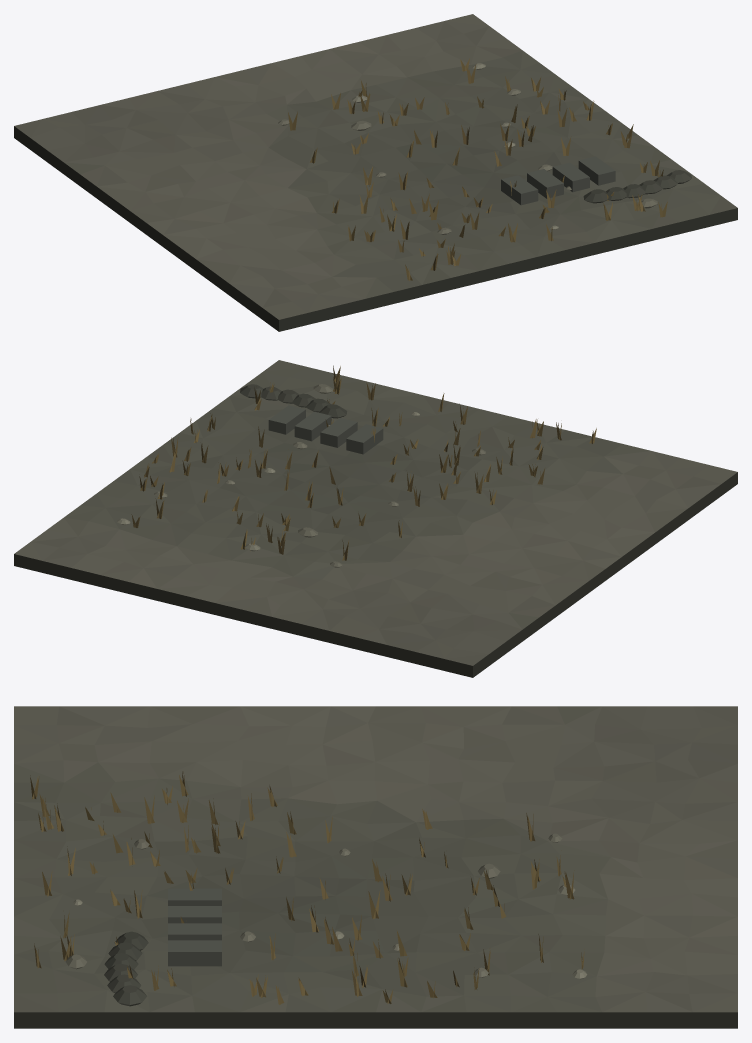
Rendered from CHUNK_oath_battlefield__burnt_field_hospital__11.glb.
3 views of the same model, one above another, from view 1: azimuth 30°, elevation 25°; view 2: azimuth 150°, elevation 25°; view 3: azimuth 270°, elevation 25° (orthographic). The views are drawn at different scales.
Parts seen in each view (by area): view 1: CHUNK_oath_battlefield__burnt_field_hospital__11; view 2: CHUNK_oath_battlefield__burnt_field_hospital__11; view 3: CHUNK_oath_battlefield__burnt_field_hospital__11.
Boxes of the visible parts, x1,y1,x2,y2 form: CHUNK_oath_battlefield__burnt_field_hospital__11: (14, 14, 737, 331); CHUNK_oath_battlefield__burnt_field_hospital__11: (14, 360, 737, 677); CHUNK_oath_battlefield__burnt_field_hospital__11: (14, 706, 737, 1028).
Size of the model in its own units: 8 by 0.5626 by 8.
